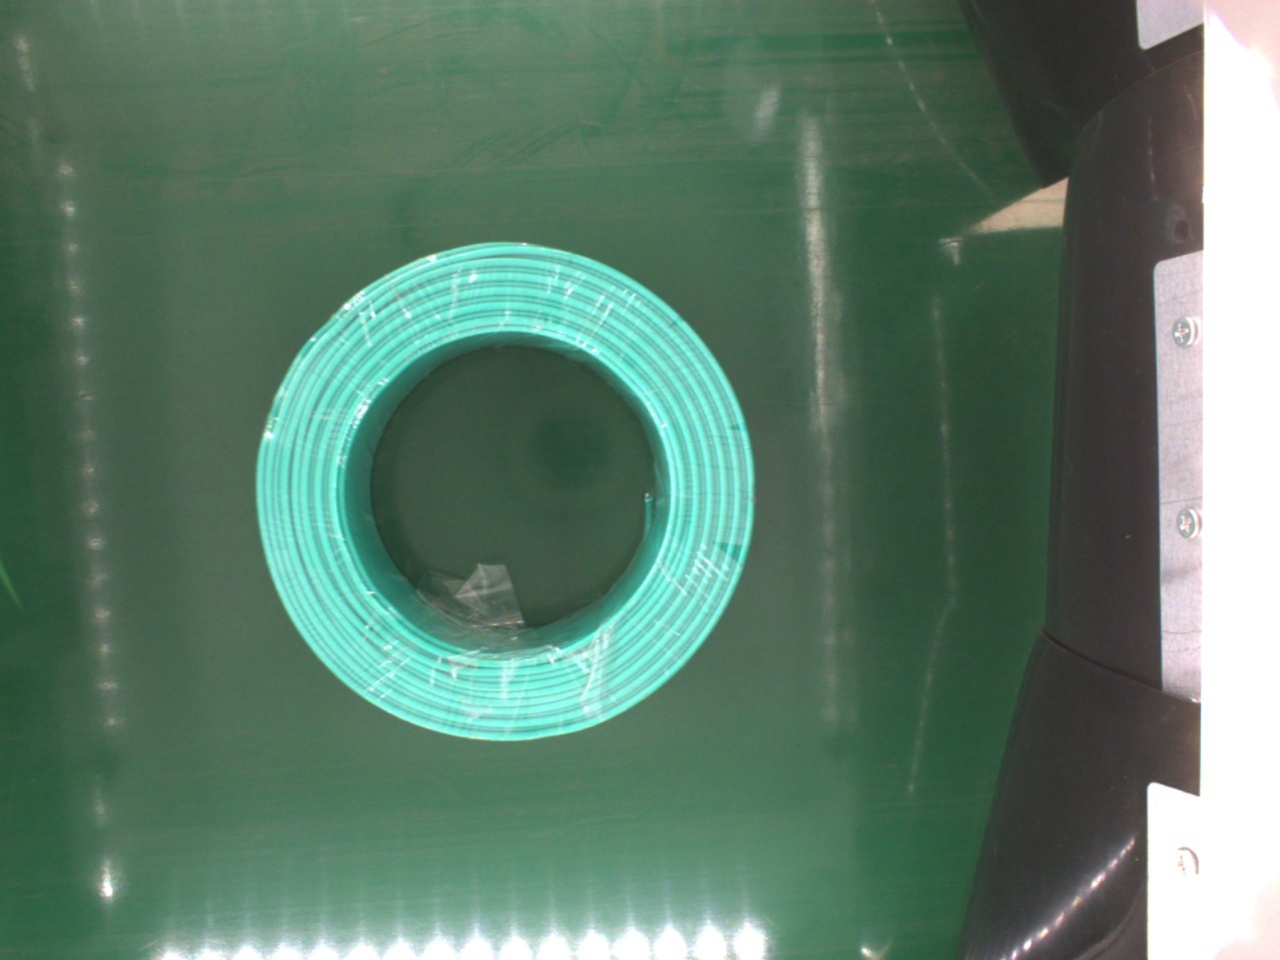green: (252, 239, 754, 736)
